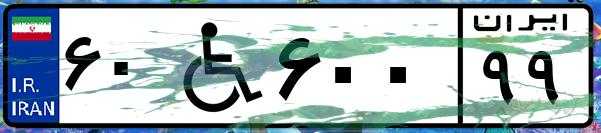0: (385, 28, 445, 110), (330, 28, 385, 110), (110, 28, 158, 98)
6: (270, 28, 330, 110), (57, 26, 110, 100)
9: (475, 38, 525, 113), (525, 38, 570, 115)
ژ (معلولین و جانبازان): (158, 12, 270, 120)
